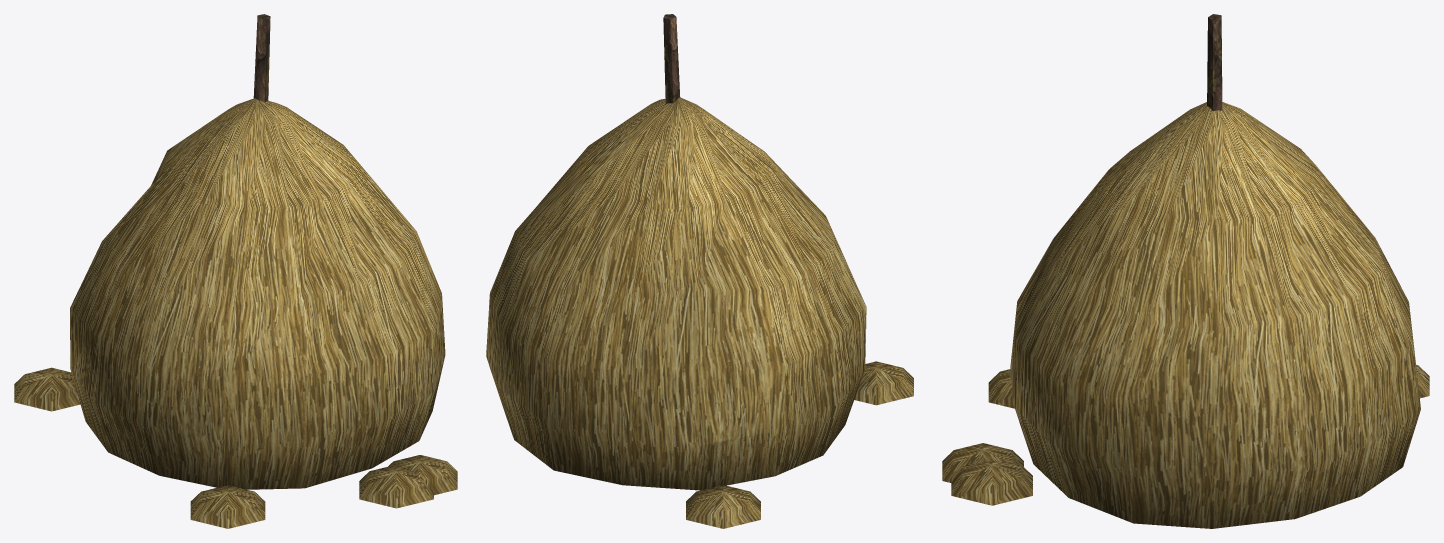
File: camp_haystack.glb
The picture shows the model from 3 angles, left to right: view 1: azimuth 30°, elevation 25°; view 2: azimuth 150°, elevation 25°; view 3: azimuth 270°, elevation 25°; orthographic projection. The views are drawn at different scales.
Parts seen in each view (by area): view 1: camp_haystack; view 2: camp_haystack; view 3: camp_haystack.
Part boxes in pixels (bbox=[...]): camp_haystack: bbox=[14, 14, 457, 528]; camp_haystack: bbox=[486, 14, 913, 528]; camp_haystack: bbox=[942, 14, 1429, 528].
Bounding box in the file's own units: 2.18 × 2.57 × 2.58.
2 materials, 2 textured.
